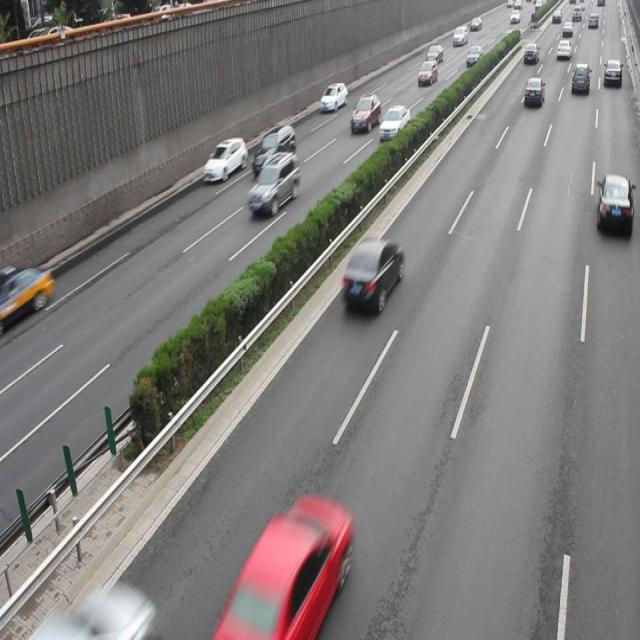car: (226, 498, 350, 640), (57, 584, 153, 640), (340, 236, 402, 316), (246, 150, 299, 217), (252, 122, 296, 177), (595, 172, 632, 236), (203, 136, 247, 183), (378, 103, 409, 144), (349, 93, 379, 132), (319, 81, 346, 113)
